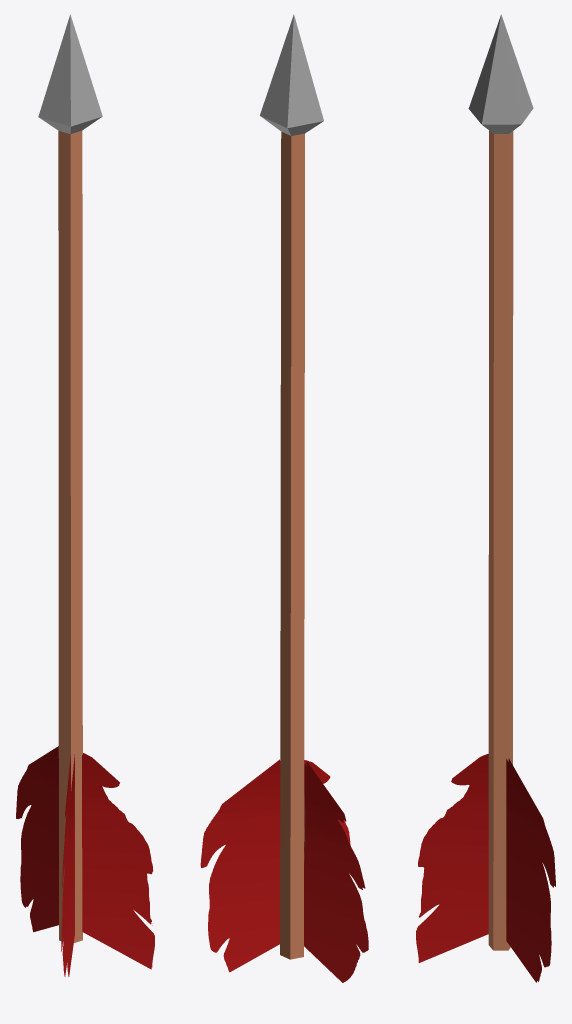
The model's file is Arrow.fbx.
3 renders of one model, left to right at view 1: azimuth 90°, elevation 25°; view 2: azimuth 150°, elevation 25°; view 3: azimuth 270°, elevation 25°, orthographic.
Visible parts, largest first — view 1: Arrow; view 2: Arrow; view 3: Arrow.
Part boxes in pixels (left/top/right/bottom): Arrow: left=16, top=14, right=154, bottom=976; Arrow: left=200, top=14, right=368, bottom=982; Arrow: left=416, top=14, right=555, bottom=982.
Size of the model in its own units: 19.06 by 117 by 17.11.
